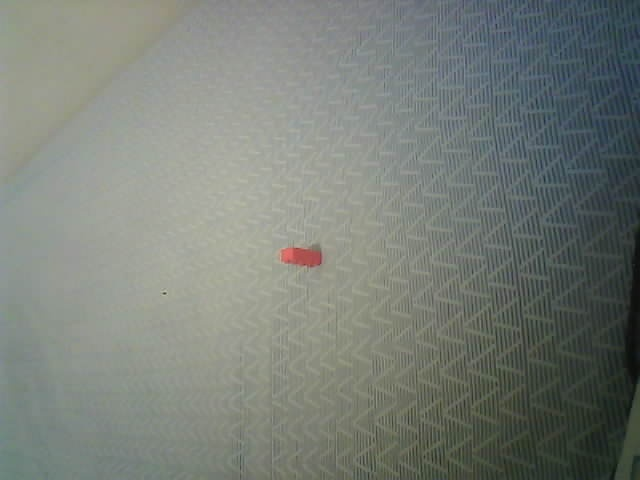lego: (280, 246, 322, 266)
